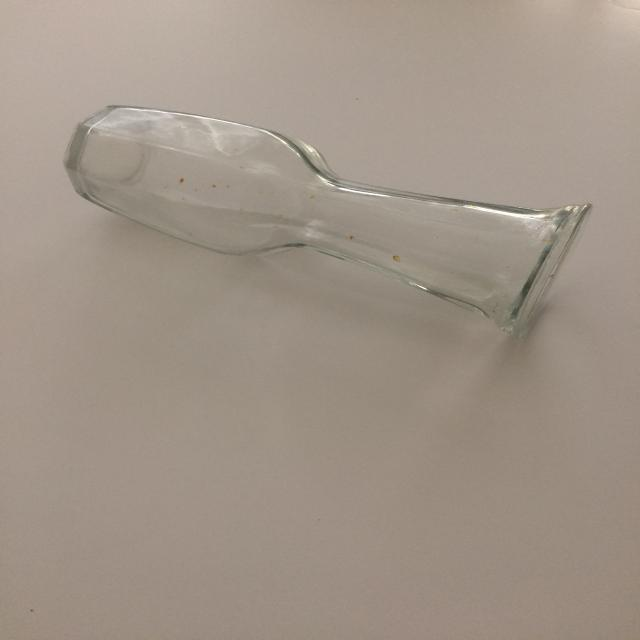glass: (62, 104, 596, 343)
